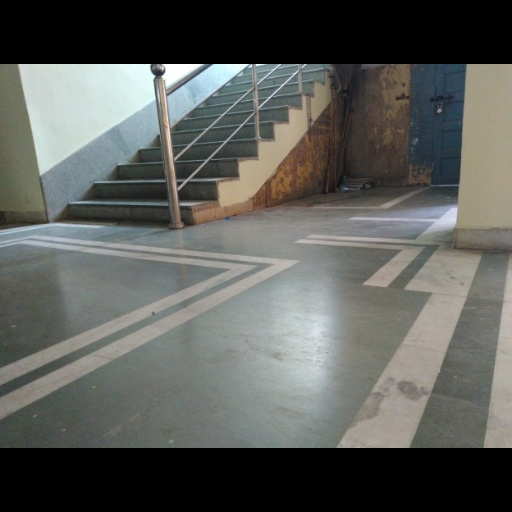Stairs: (172, 65, 330, 223), (67, 142, 169, 223)
